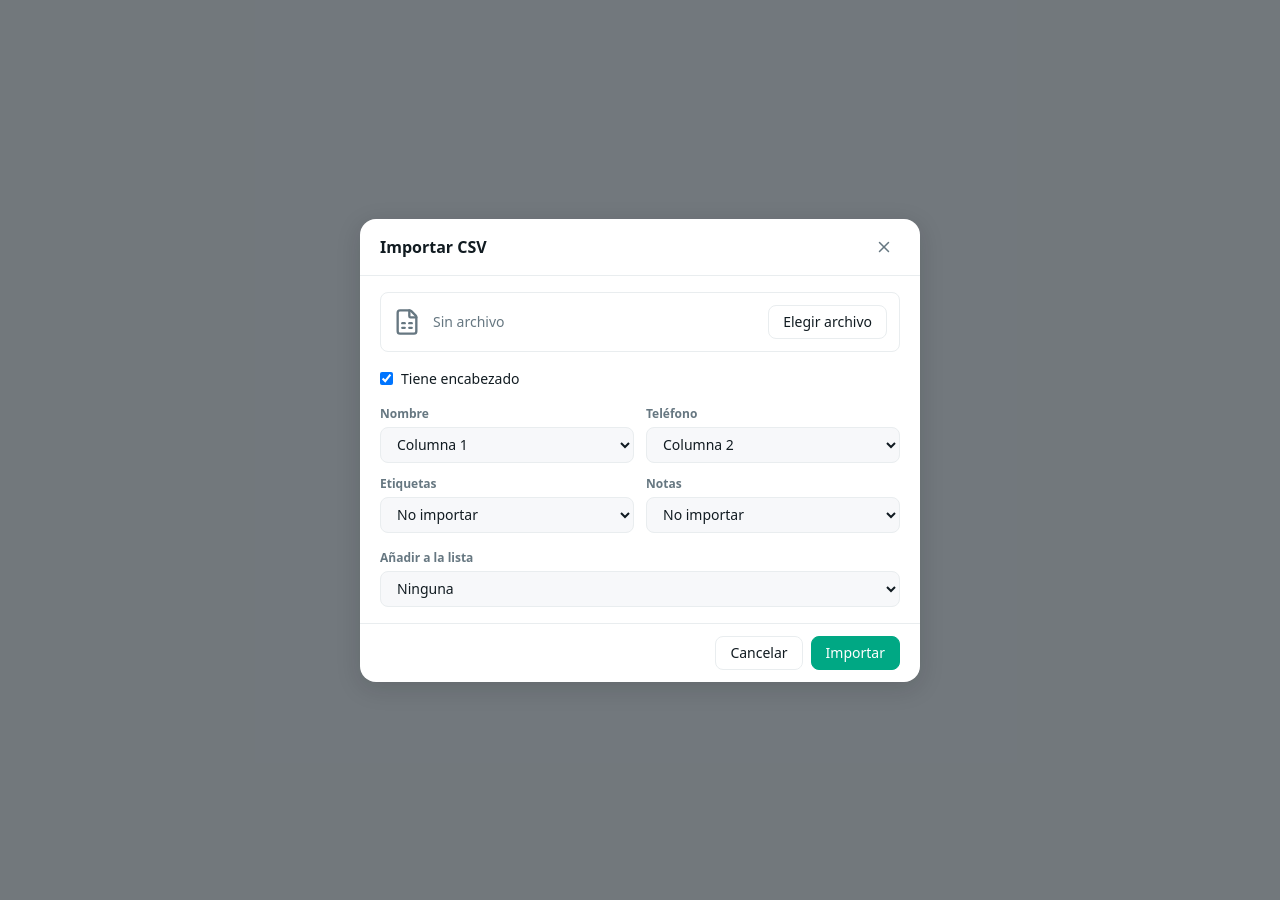
ImportCsvModal › sin columna de nombre ni de teléfono no importa
The width and height of the screenshot is (1280, 900).
Click the button "Elegir archivo" at (828, 322), box 768,304 -> 887,338
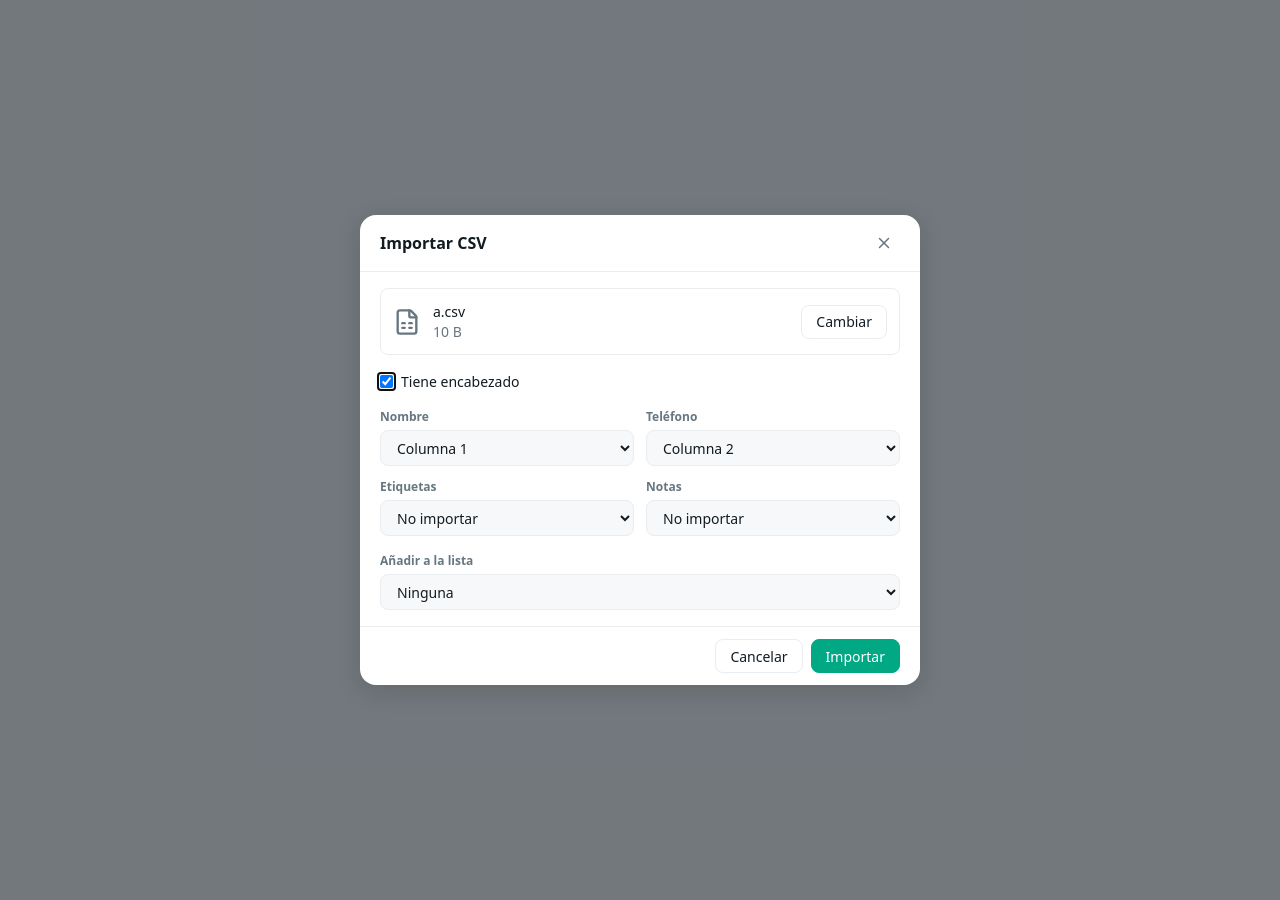
Expected: the text "a.csv" is shown, 433,302 -> 465,321
Select "No importar" in the dropdown labelled "Nombre" at (507, 448), box 380,430 -> 634,466
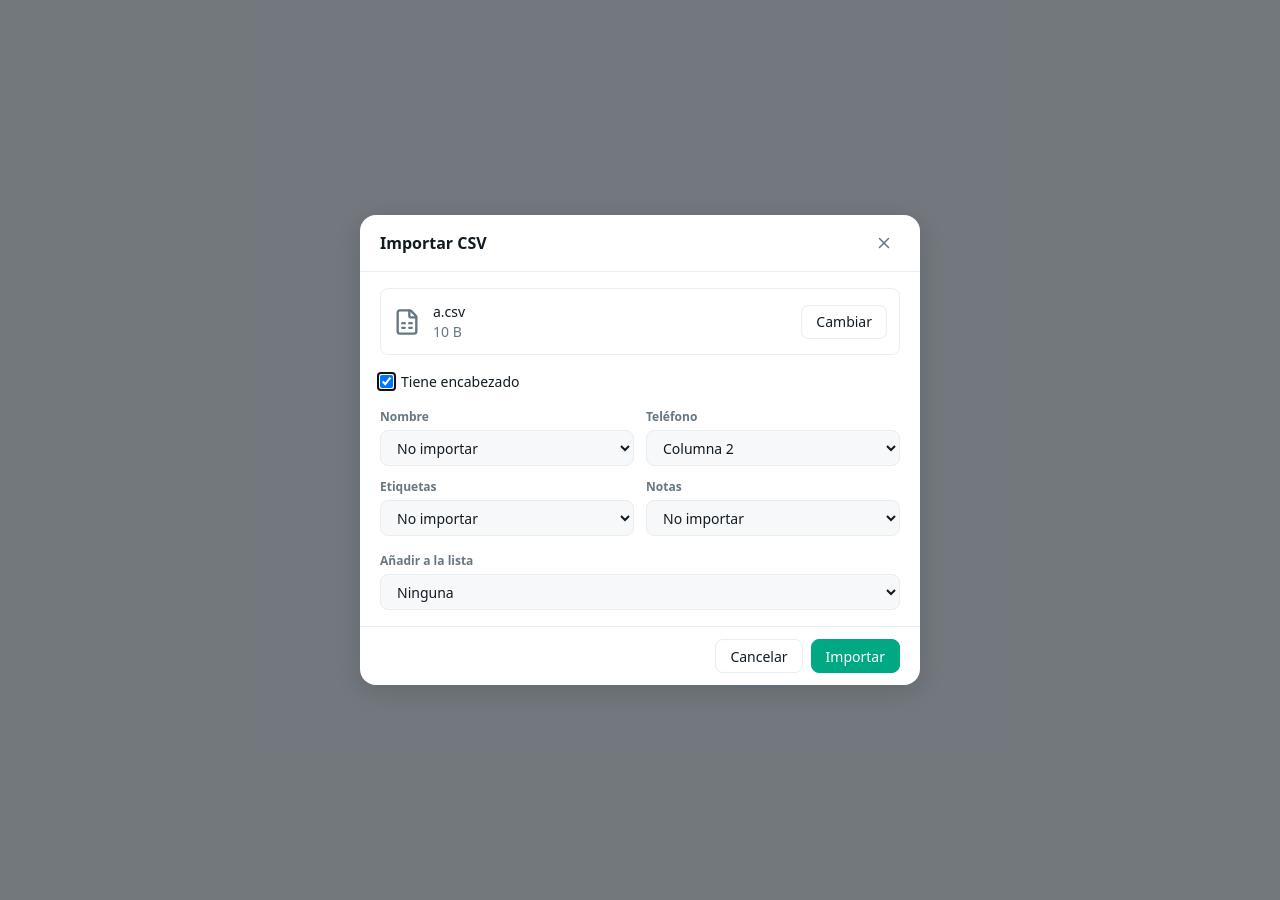
Select "No importar" in the dropdown labelled "Teléfono" at (773, 448), box 646,430 -> 900,466
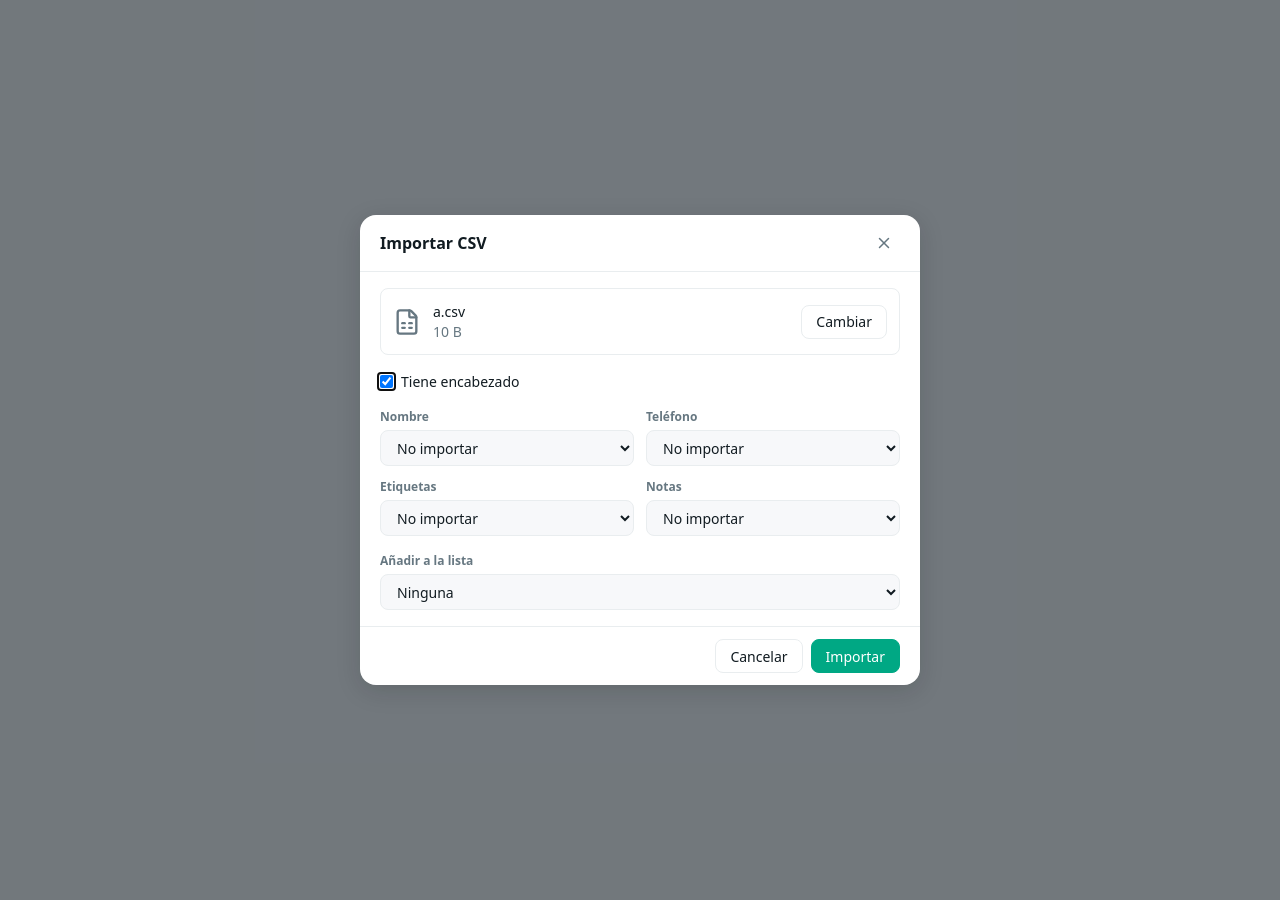
Click the button "Importar" at (855, 656), box 811,639 -> 900,673
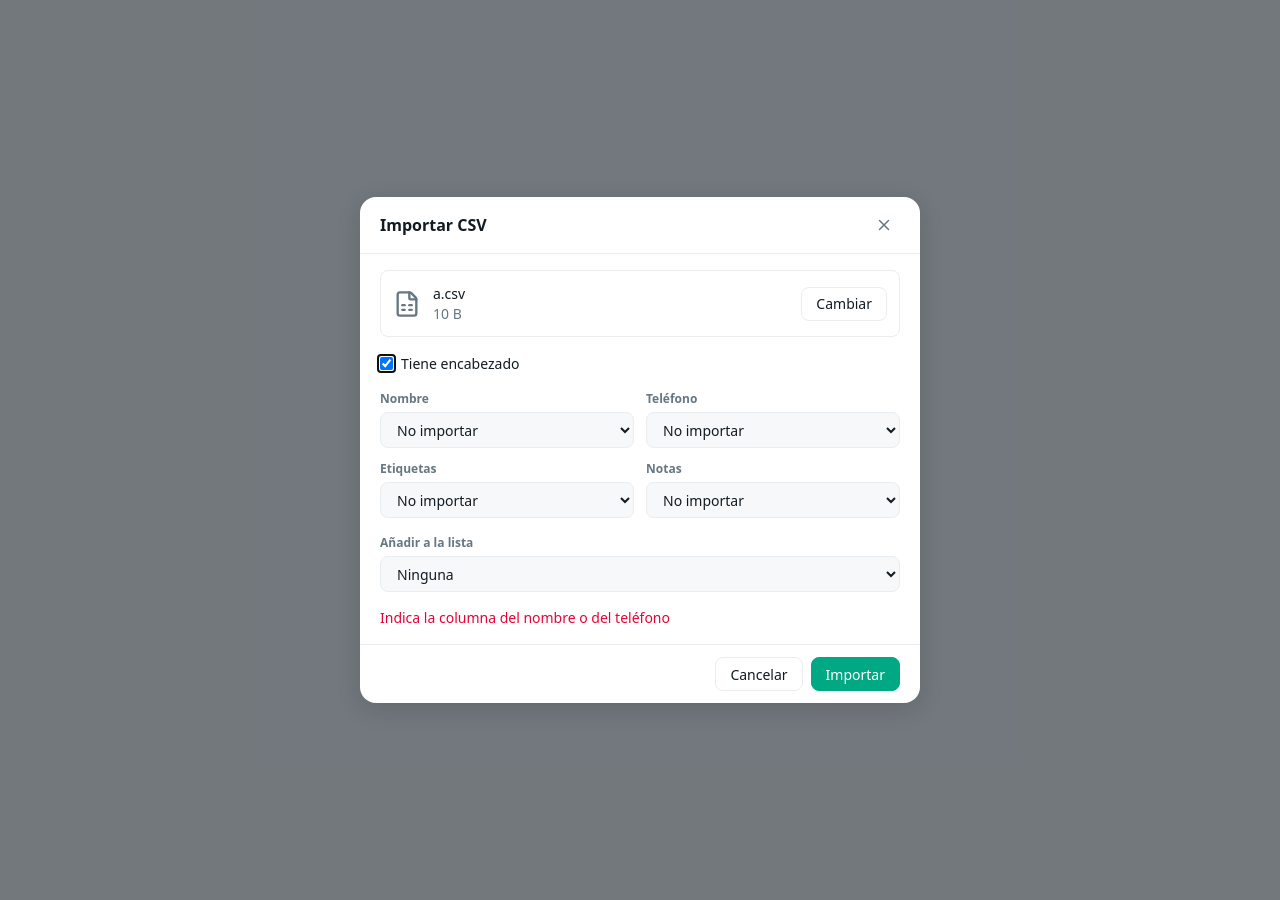
Expected: the text "Indica la columna del nombre o del teléfono" is shown, 380,608 -> 670,627
